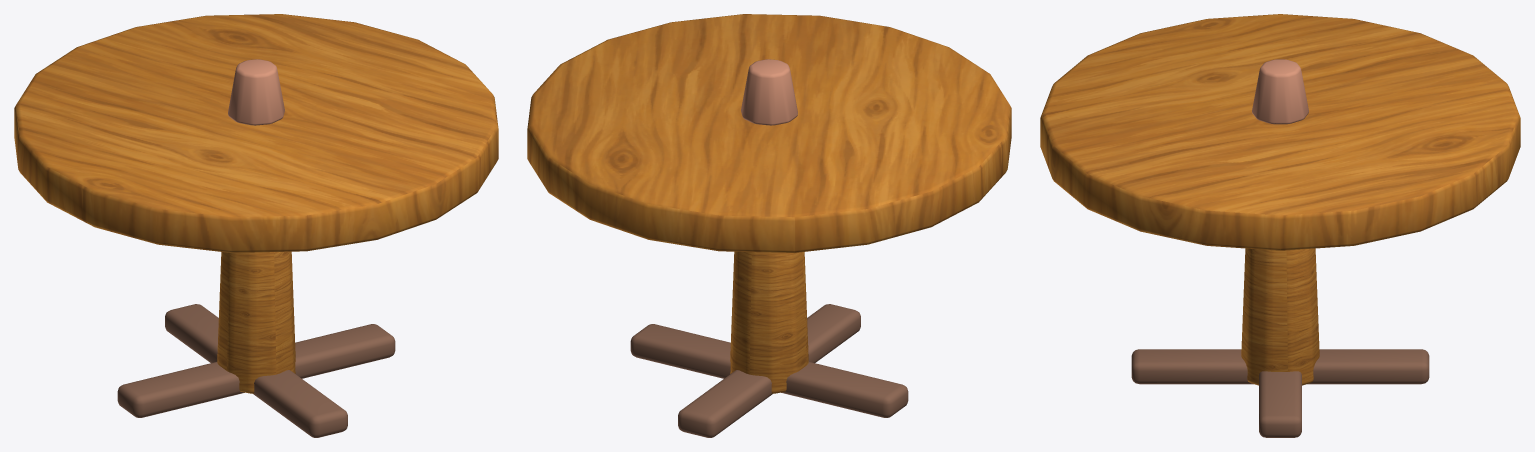
The model's file is round-table.glb.
3 renders of one model, left to right at view 1: azimuth 30°, elevation 25°; view 2: azimuth 150°, elevation 25°; view 3: azimuth 270°, elevation 25°, orthographic.
Visible parts, largest first — view 1: round-table; view 2: round-table; view 3: round-table.
Boxes of the visible parts, x1,y1,x2,y2 form: round-table: (14,14,498,437); round-table: (527,14,1011,437); round-table: (1040,14,1520,437).
Bounding box in the file's own units: 1.05 × 0.75 × 1.05.
Materials: 3 (1 with a texture image).
